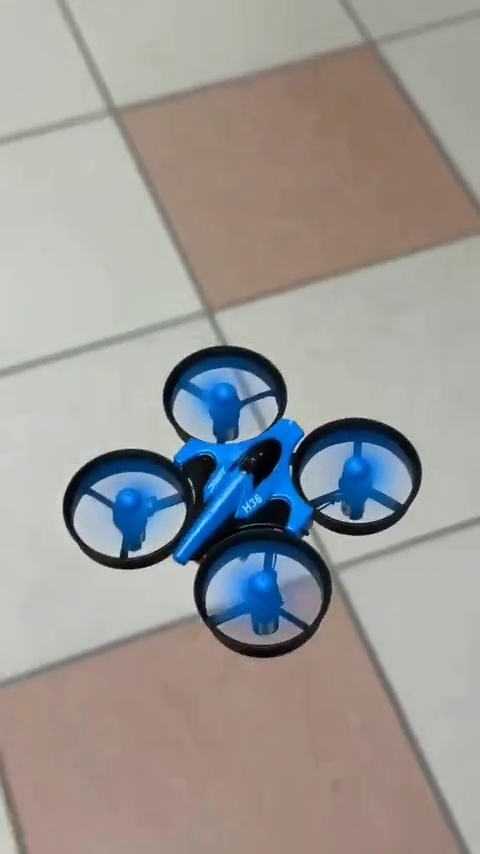drone: (54, 345, 432, 659)
